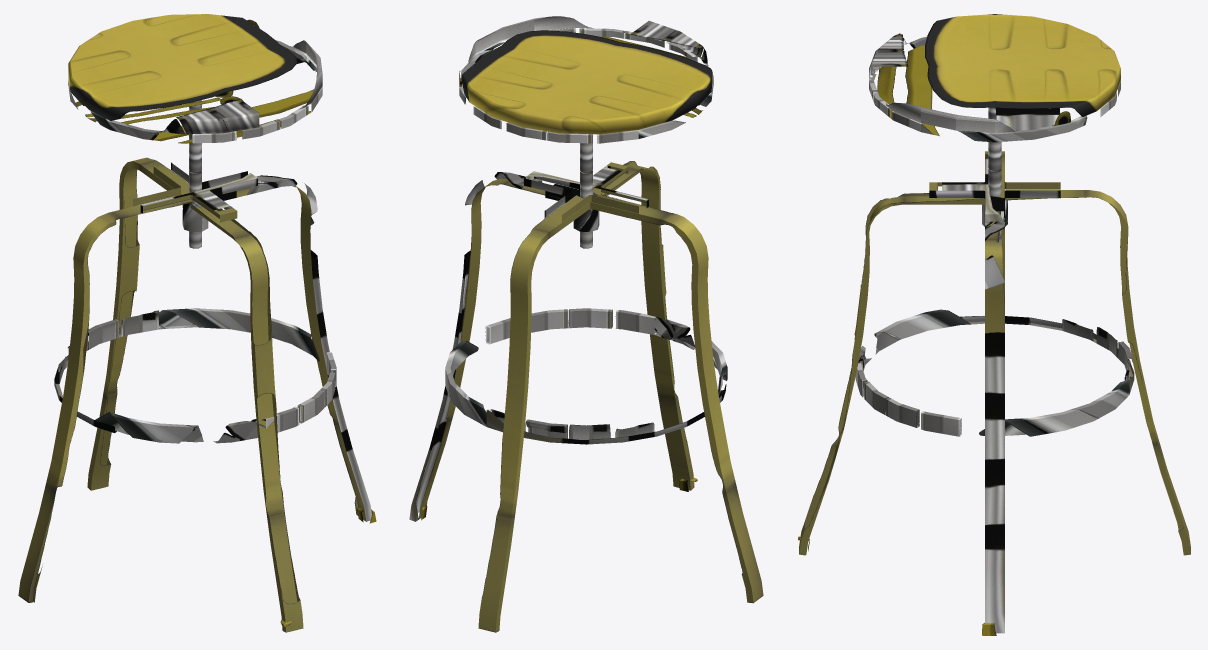
3 renders of one model, left to right at view 1: azimuth 30°, elevation 25°; view 2: azimuth 150°, elevation 25°; view 3: azimuth 270°, elevation 25°, orthographic.
Parts seen in each view (by area): view 1: Chefs; view 2: Chefs; view 3: Chefs.
Boxes of the visible parts, box(x1,y1,x2,y2) form: Chefs: box(18, 14, 376, 632); Chefs: box(409, 16, 763, 632); Chefs: box(798, 14, 1190, 635).
Bounding box in the file's own units: 1.08 × 1.46 × 1.08.
